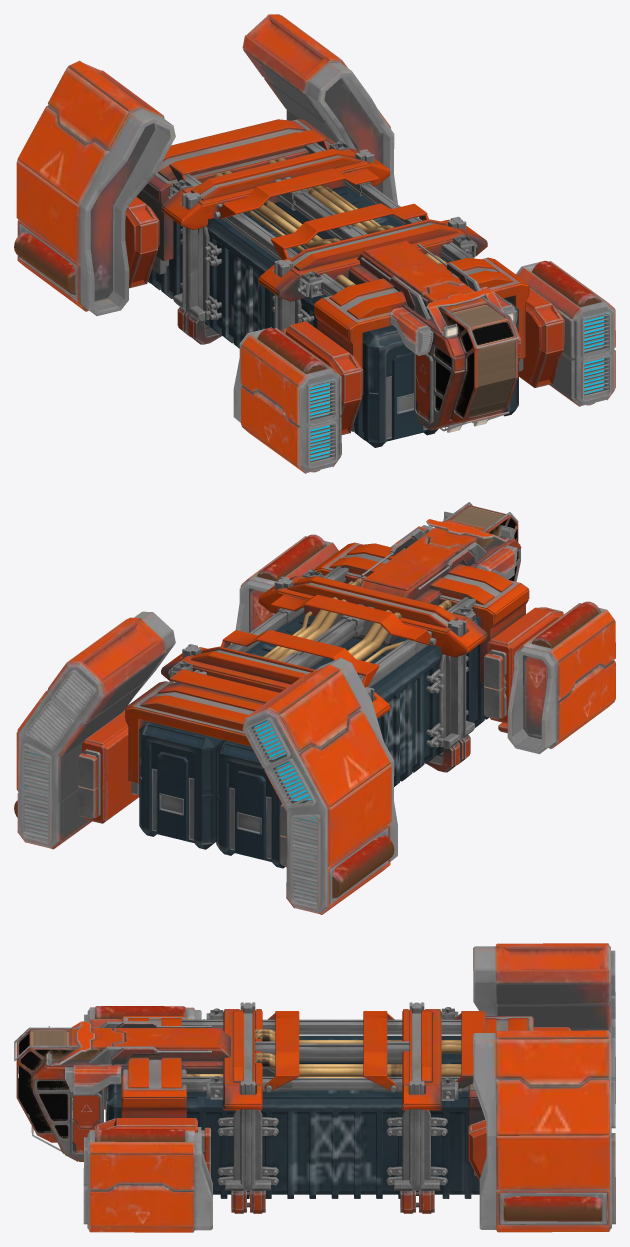
File: corinth.glb
3 views of the same model, one above another, from view 1: azimuth 30°, elevation 25°; view 2: azimuth 150°, elevation 25°; view 3: azimuth 270°, elevation 25° (orthographic). The views are drawn at different scales.
Visible parts, largest first — view 1: Object_25, Object_2, Object_14, Object_11, Object_23, Object_24, Object_17, Object_6, Object_13, Object_3, Object_16; view 2: Object_25, Object_2, Object_11, Object_14, Object_24, Object_23, Object_6, Object_3, Object_13, Object_16, Object_17; view 3: Object_25, Object_2, Object_11, Object_14, Object_6, Object_23, Object_17, Object_13, Object_3, Object_24, Object_16.
Boxes of the visible parts, x1=… form: Object_25: x1=16, y1=14, x2=397, y2=315; Object_2: x1=136, y1=119, x2=529, y2=396; Object_14: x1=14, y1=232, x2=615, y2=473; Object_11: x1=148, y1=186, x2=518, y2=447; Object_23: x1=348, y1=241, x2=521, y2=430; Object_24: x1=125, y1=197, x2=564, y2=434; Object_17: x1=415, y1=305, x2=514, y2=420; Object_6: x1=173, y1=149, x2=466, y2=344; Object_13: x1=390, y1=286, x2=518, y2=432; Object_3: x1=215, y1=157, x2=446, y2=287; Object_16: x1=361, y1=243, x2=480, y2=320; Object_25: x1=16, y1=611, x2=397, y2=914; Object_2: x1=125, y1=542, x2=529, y2=795; Object_11: x1=139, y1=613, x2=488, y2=868; Object_14: x1=14, y1=534, x2=615, y2=898; Object_24: x1=78, y1=607, x2=563, y2=867; Object_23: x1=330, y1=504, x2=521, y2=645; Object_6: x1=182, y1=576, x2=474, y2=772; Object_3: x1=263, y1=578, x2=451, y2=662; Object_13: x1=391, y1=502, x2=518, y2=579; Object_16: x1=361, y1=528, x2=486, y2=590; Object_17: x1=451, y1=507, x2=518, y2=581; Object_25: x1=473, y1=943, x2=615, y2=1232; Object_2: x1=121, y1=1007, x2=533, y2=1176; Object_11: x1=105, y1=1035, x2=479, y2=1198; Object_14: x1=83, y1=1006, x2=602, y2=1232; Object_6: x1=217, y1=1002, x2=447, y2=1213; Object_23: x1=16, y1=1028, x2=275, y2=1161; Object_17: x1=18, y1=1031, x2=100, y2=1152; Object_13: x1=14, y1=1021, x2=121, y2=1151; Object_3: x1=186, y1=1029, x2=461, y2=1077; Object_24: x1=94, y1=1027, x2=571, y2=1181; Object_16: x1=88, y1=1021, x2=211, y2=1064.
Bounding box in the file's own units: 38.78 × 23.16 × 67.12.
Materials: 12 (11 with a texture image).
